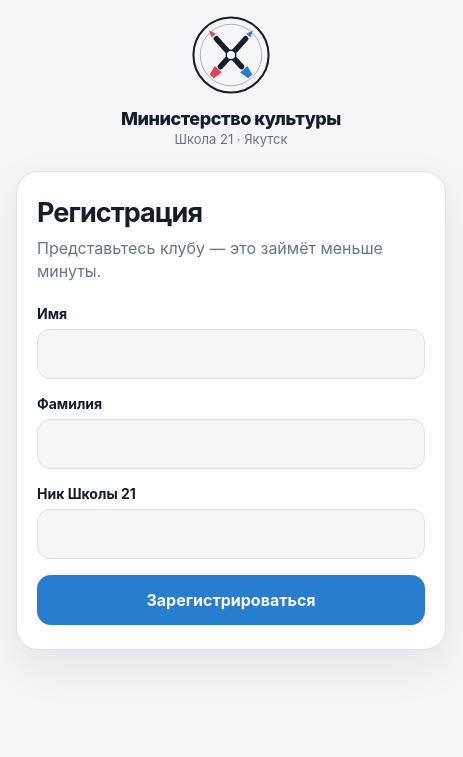
Scenario: shows safe onboarding error INVITE_INVALID
Type "Иван" into the field labelled "Имя".
click(231, 354); type("Иван")  # box [37,329,425,379]
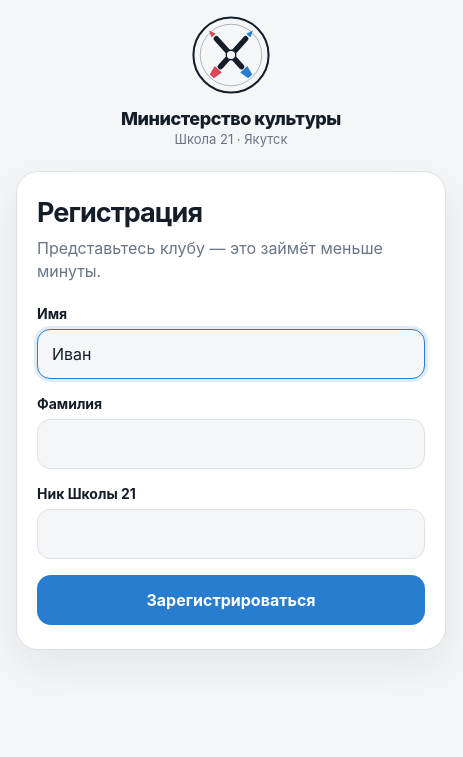
Type "Петров" into the field labelled "Фамилия".
click(231, 444); type("Петров")  # box [37,419,425,469]
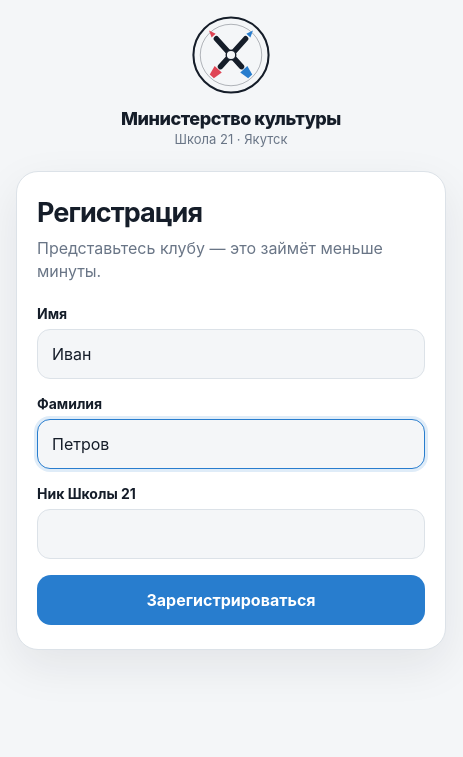
Type "ivan" into the field labelled "Ник Школы 21".
click(231, 534); type("ivan")  # box [37,509,425,559]
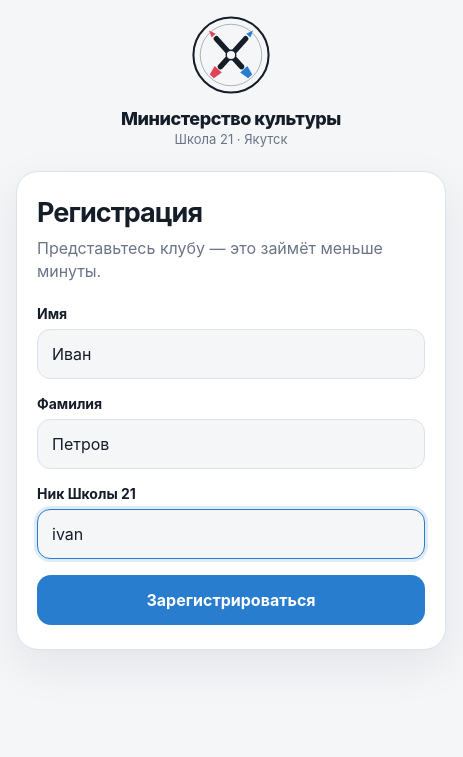
Click the button "Зарегистрироваться".
click(231, 600)  # box [37,575,425,625]
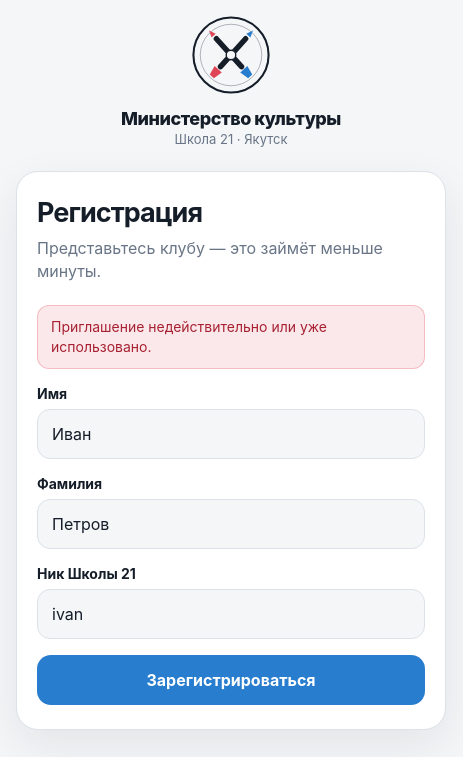
Now the text "Приглашение недействительно или уже использовано." is shown, box [37,305,425,369]
